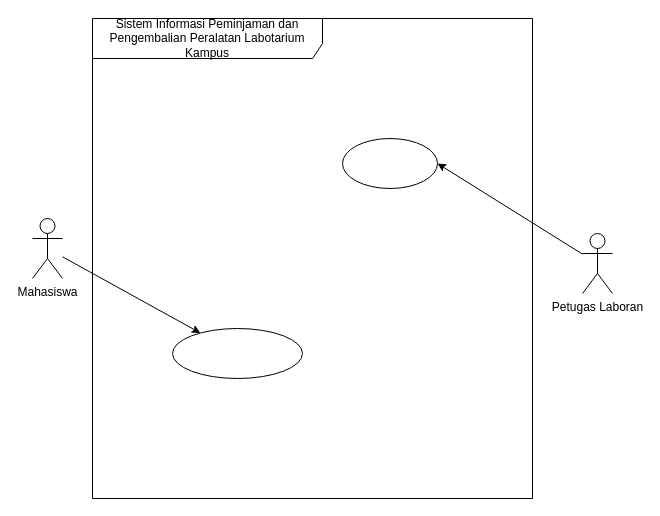
This 660x516 diagram has some shape labels left out. Here are the shapes that lost their labels. From the top down, the centre of each, then its label:
At (390,163): "Kelola Data Peralatan".
At (237,353): "Lihat Ketersediaan Peralatan".
